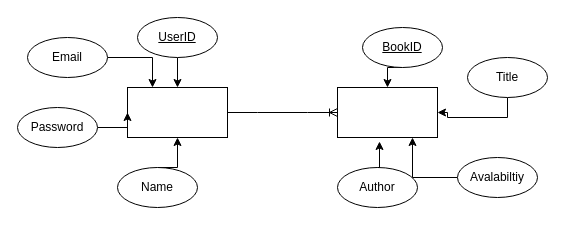
This 565x225 diagram has some shape labels left out. The shapes that lost their labels are listed below. From the top down, each one's box as (x1, y1, x2, y2) in pixels, then its label:
(126, 86, 228, 138): Users
(336, 86, 438, 138): Books
